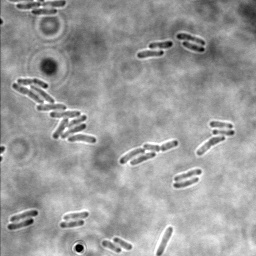Dividing: (194, 134, 227, 158), (142, 138, 180, 154), (15, 0, 67, 11), (172, 167, 203, 183), (175, 32, 208, 46)
Microcolony: (10, 76, 99, 145)
Rod: (155, 225, 174, 255), (118, 146, 146, 166), (128, 150, 157, 167), (8, 208, 39, 223), (7, 216, 34, 232), (172, 175, 200, 190), (100, 238, 123, 254), (111, 236, 134, 251), (180, 41, 206, 54), (61, 210, 89, 222), (58, 218, 85, 230), (147, 39, 174, 51), (136, 49, 164, 60), (208, 119, 235, 130), (30, 7, 58, 17), (211, 128, 237, 137)
